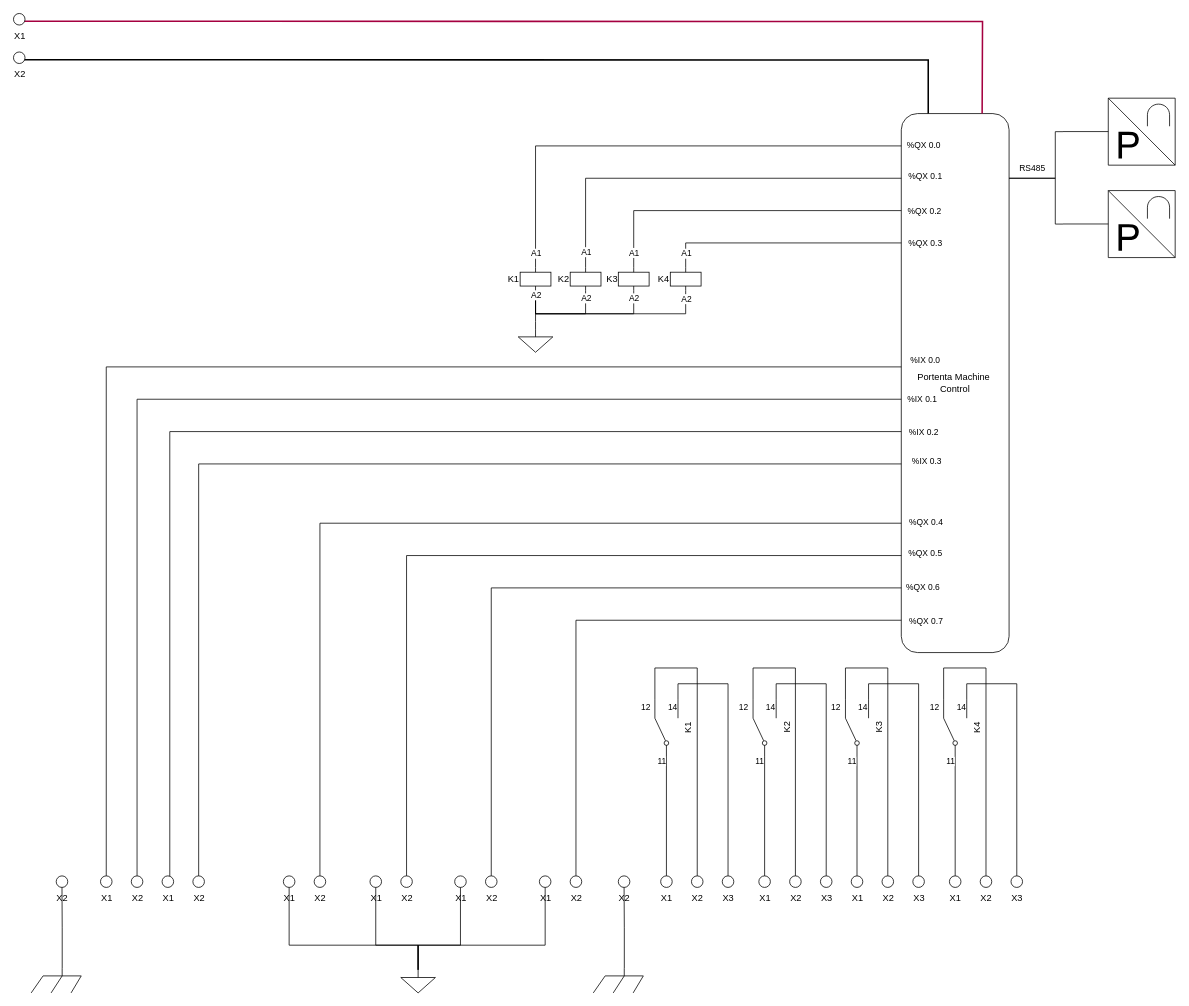
The diagram is 1189 pixels wide and 1006 high, and some of its shapes have lost their labels. The shapes that lost their labels are listed below. From the top down, each one's centre as x and y in pixels, then its label:
At (1118,131): "Air sensor".
At (1118,224): "Soil sensor".
